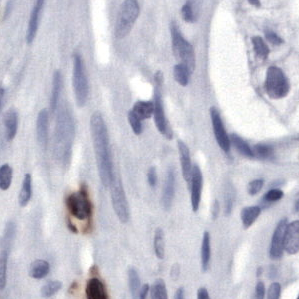Lymphocyte: (64, 187, 94, 229)
